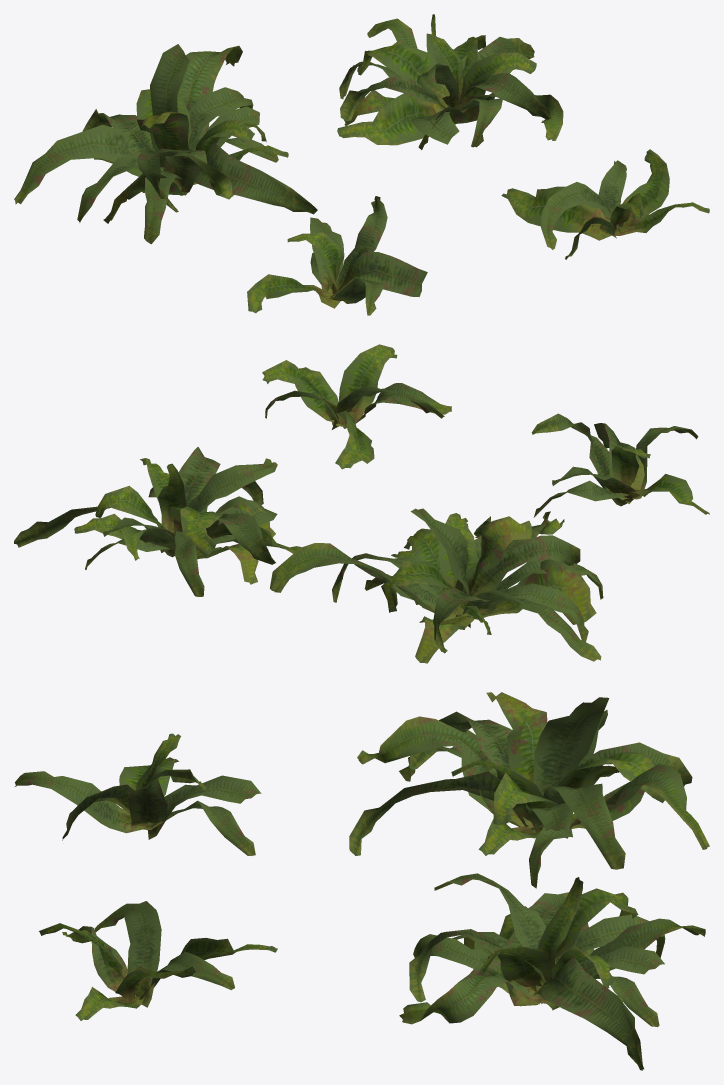
Rendered from fern_02.glb.
The picture shows the model from 3 angles, top to bottom: view 1: azimuth 30°, elevation 25°; view 2: azimuth 150°, elevation 25°; view 3: azimuth 270°, elevation 25°; orthographic projection. The views are drawn at different scales.
Visible parts, largest first — view 1: fern_02_b, fern_02_c, fern_02_d, fern_02_a; view 2: fern_02_b, fern_02_c, fern_02_d, fern_02_a; view 3: fern_02_b, fern_02_c, fern_02_a, fern_02_d.
Boxes of the visible parts, box(x1,y1,x2,y2) form: fern_02_b: box(14, 44, 317, 244); fern_02_c: box(337, 14, 563, 149); fern_02_d: box(501, 149, 709, 259); fern_02_a: box(247, 196, 427, 315); fern_02_b: box(270, 508, 603, 663); fern_02_c: box(14, 447, 301, 596); fern_02_d: box(262, 344, 451, 469); fern_02_a: box(531, 413, 709, 517); fern_02_b: box(349, 692, 709, 888); fern_02_c: box(399, 873, 705, 1070); fern_02_a: box(15, 733, 261, 855); fern_02_d: box(39, 901, 277, 1020).
Bounding box in the file's own units: 1.97 × 0.4277 × 1.72.
1 material, 1 textured.
